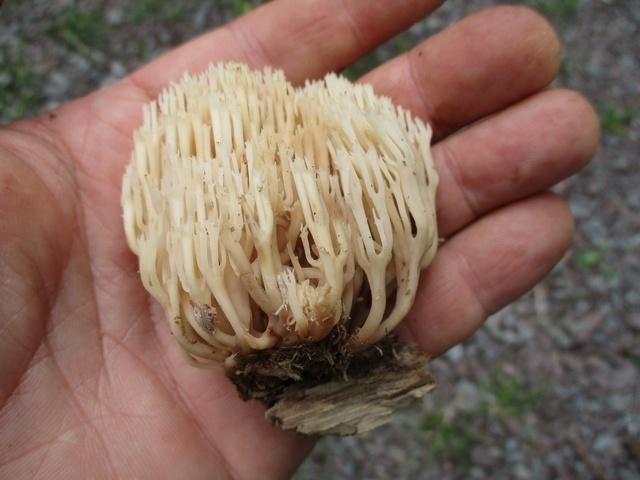Edible Mushroom: (119, 59, 441, 375)
